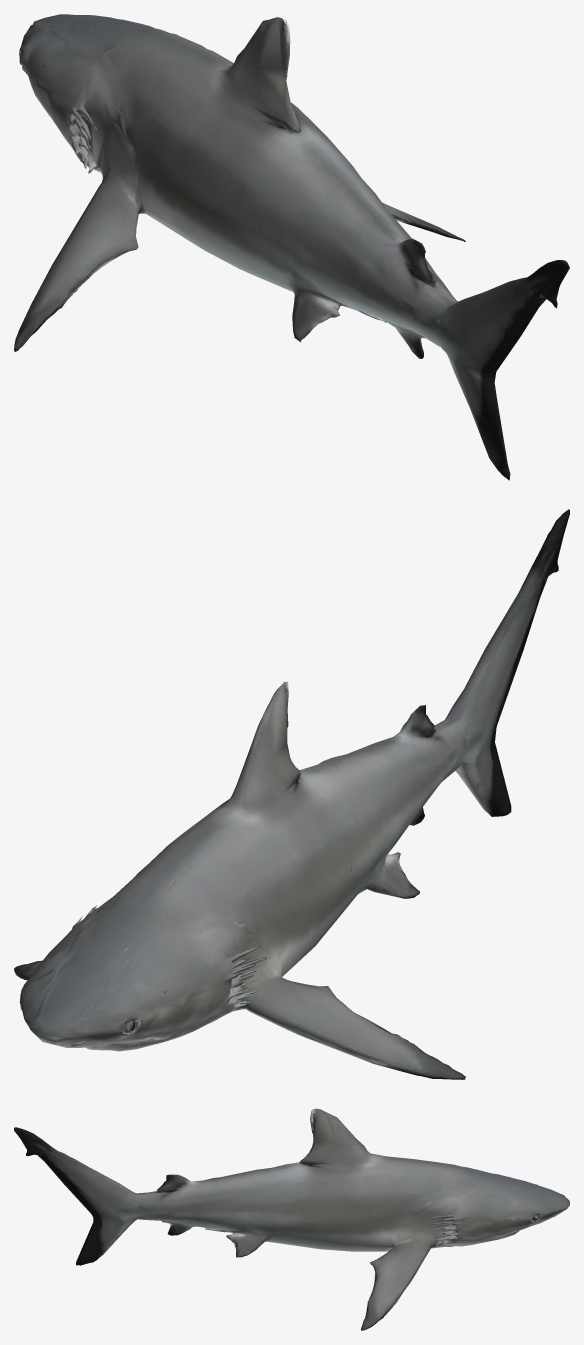
Rendered from grijze_rifhaai.glb.
3 views of the same model, one above another, from view 1: azimuth 30°, elevation 25°; view 2: azimuth 150°, elevation 25°; view 3: azimuth 270°, elevation 25° (orthographic). The views are drawn at different scales.
Visible parts, largest first — view 1: tripo_node_8d4d86be-acc4-4949-9103-af930837fdc9; view 2: tripo_node_8d4d86be-acc4-4949-9103-af930837fdc9; view 3: tripo_node_8d4d86be-acc4-4949-9103-af930837fdc9.
Boxes of the visible parts, x1=… form: tripo_node_8d4d86be-acc4-4949-9103-af930837fdc9: x1=14, y1=14, x2=569, y2=480; tripo_node_8d4d86be-acc4-4949-9103-af930837fdc9: x1=14, y1=509, x2=569, y2=1079; tripo_node_8d4d86be-acc4-4949-9103-af930837fdc9: x1=14, y1=1108, x2=569, y2=1330.
Size of the model in its own units: 2.73 by 1.8 by 5.51.
Materials: 1 (1 with a texture image).
